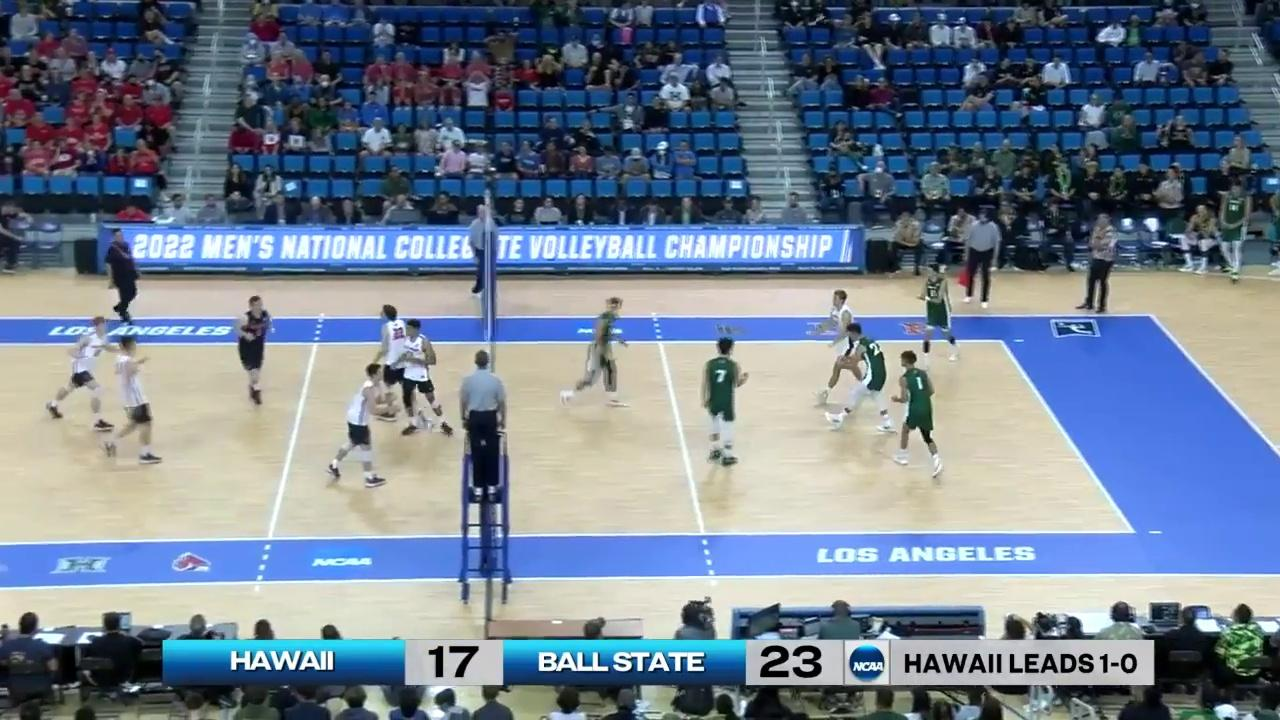player: (44, 317, 120, 429), (103, 333, 165, 467), (323, 364, 387, 487), (562, 296, 627, 404), (827, 324, 890, 432), (397, 320, 453, 435), (895, 351, 944, 478), (814, 290, 866, 407), (700, 340, 747, 465), (375, 304, 415, 422), (915, 261, 961, 362), (236, 295, 273, 408)
refree: (459, 352, 510, 490), (964, 210, 1001, 307), (470, 206, 498, 294)
